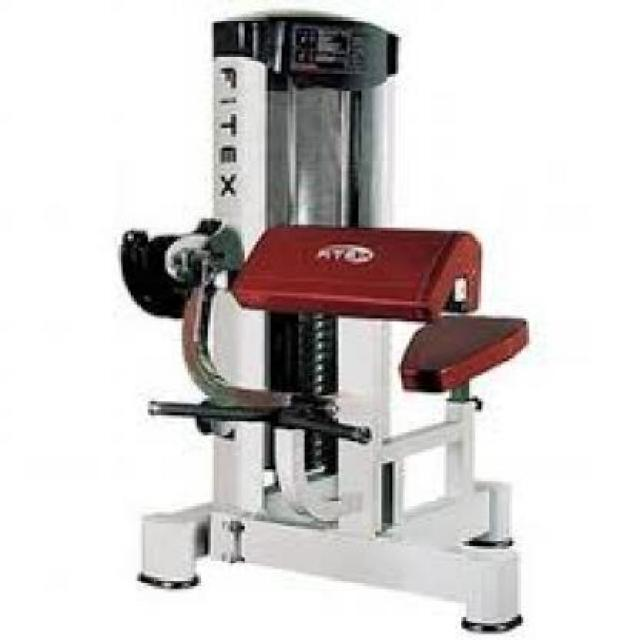arm curl machine: (120, 11, 529, 634)
